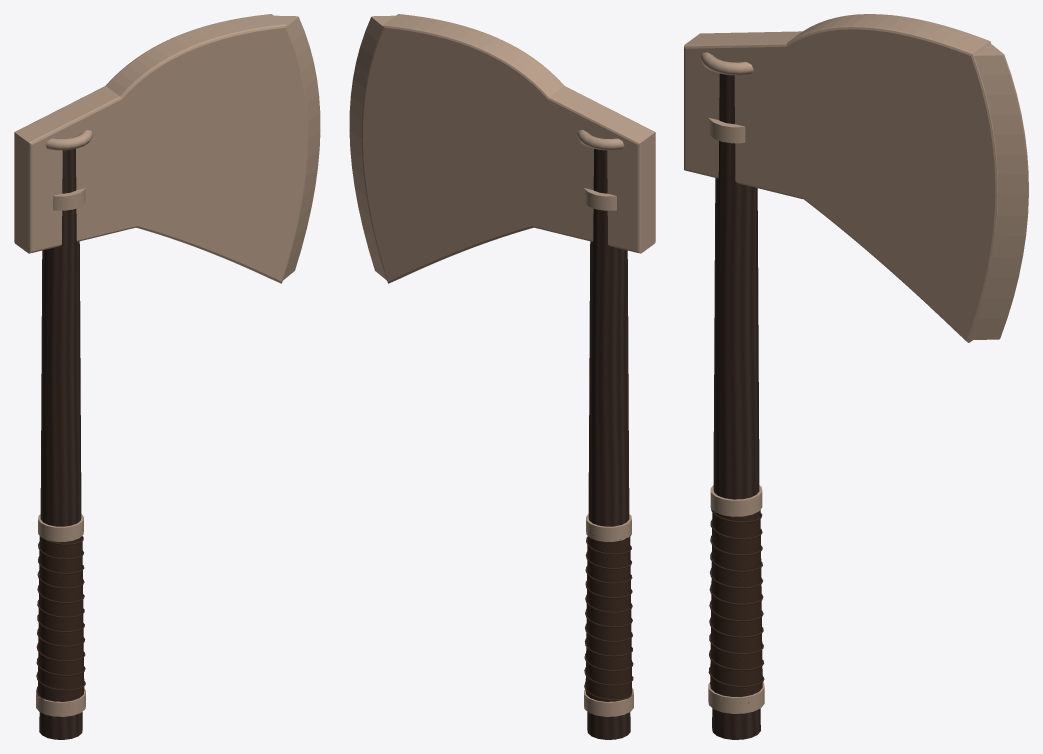
The model's file is corealm_axe_4.glb.
The picture shows the model from 3 angles, left to right: view 1: azimuth 30°, elevation 25°; view 2: azimuth 150°, elevation 25°; view 3: azimuth 330°, elevation 25°; orthographic projection. The views are drawn at different scales.
Parts seen in each view (by area): view 1: corealm-weapon-metal, corealm-weapon-wood, corealm-weapon-leather, corealm-weapon-blade; view 2: corealm-weapon-metal, corealm-weapon-wood, corealm-weapon-leather, corealm-weapon-blade; view 3: corealm-weapon-metal, corealm-weapon-wood, corealm-weapon-leather, corealm-weapon-blade.
Part boxes in pixels (<box>): corealm-weapon-metal: <box>14,14,308,716</box>; corealm-weapon-wood: <box>39,149,82,739</box>; corealm-weapon-leather: <box>36,535,85,704</box>; corealm-weapon-blade: <box>274,15,320,280</box>; corealm-weapon-metal: <box>361,14,655,716</box>; corealm-weapon-wood: <box>587,149,630,739</box>; corealm-weapon-leather: <box>584,534,633,701</box>; corealm-weapon-blade: <box>349,15,395,280</box>; corealm-weapon-metal: <box>684,14,997,713</box>; corealm-weapon-wood: <box>712,73,760,739</box>; corealm-weapon-leather: <box>708,506,764,703</box>; corealm-weapon-blade: <box>969,44,1028,340</box>.
Bounding box in the file's own units: 0.3948 × 0.838 × 0.074.
Materials: 4 (2 with a texture image).
